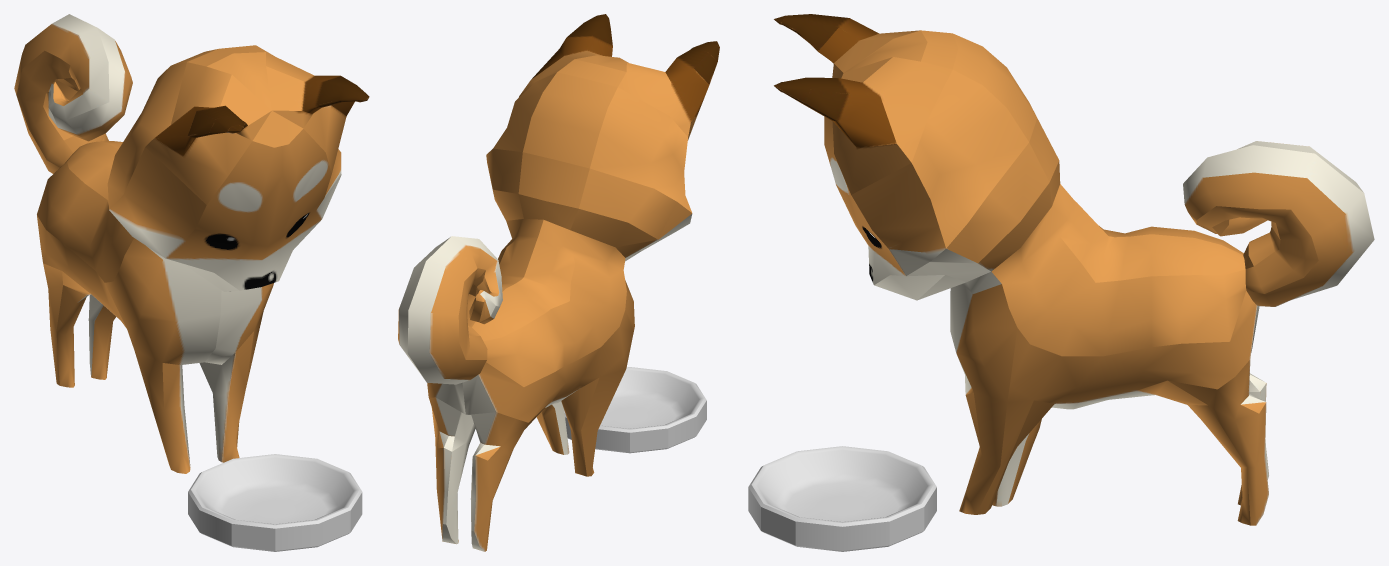
File: emptyBowl_frame4.obj
3 renders of one model, left to right at view 1: azimuth 30°, elevation 25°; view 2: azimuth 150°, elevation 25°; view 3: azimuth 270°, elevation 25°, orthographic. The views are drawn at different scales.
Visible parts, largest first — view 1: newRigging1:BodzL1, FressnapfLeer:pCylinder1; view 2: newRigging1:BodzL1, FressnapfLeer:pCylinder1; view 3: newRigging1:BodzL1, FressnapfLeer:pCylinder1.
Part boxes in pixels (x1,y1,x2,y2): newRigging1:BodzL1: [14, 14, 369, 473]; FressnapfLeer:pCylinder1: [188, 454, 362, 551]; newRigging1:BodzL1: [398, 14, 719, 551]; FressnapfLeer:pCylinder1: [564, 367, 706, 453]; newRigging1:BodzL1: [774, 14, 1374, 525]; FressnapfLeer:pCylinder1: [748, 446, 936, 551].
Size of the model in its own units: 3.91 by 7.01 by 8.45.
Materials: 2 (2 with a texture image).
